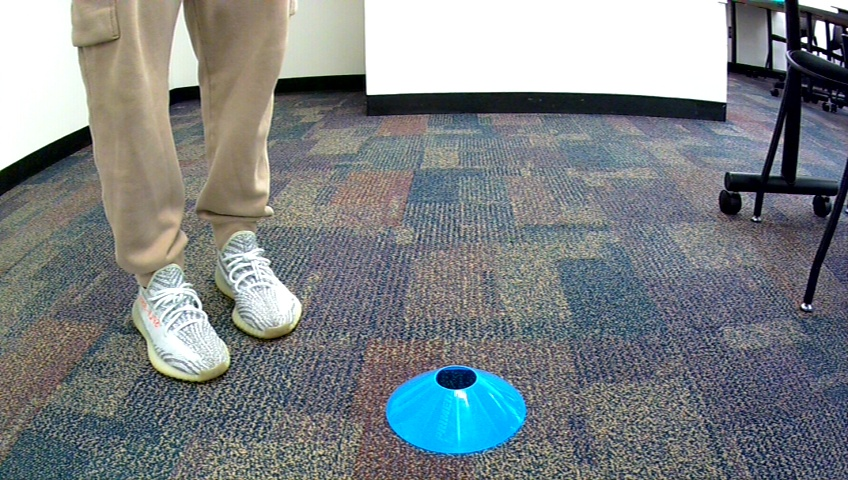cone: (383, 362, 528, 454)
